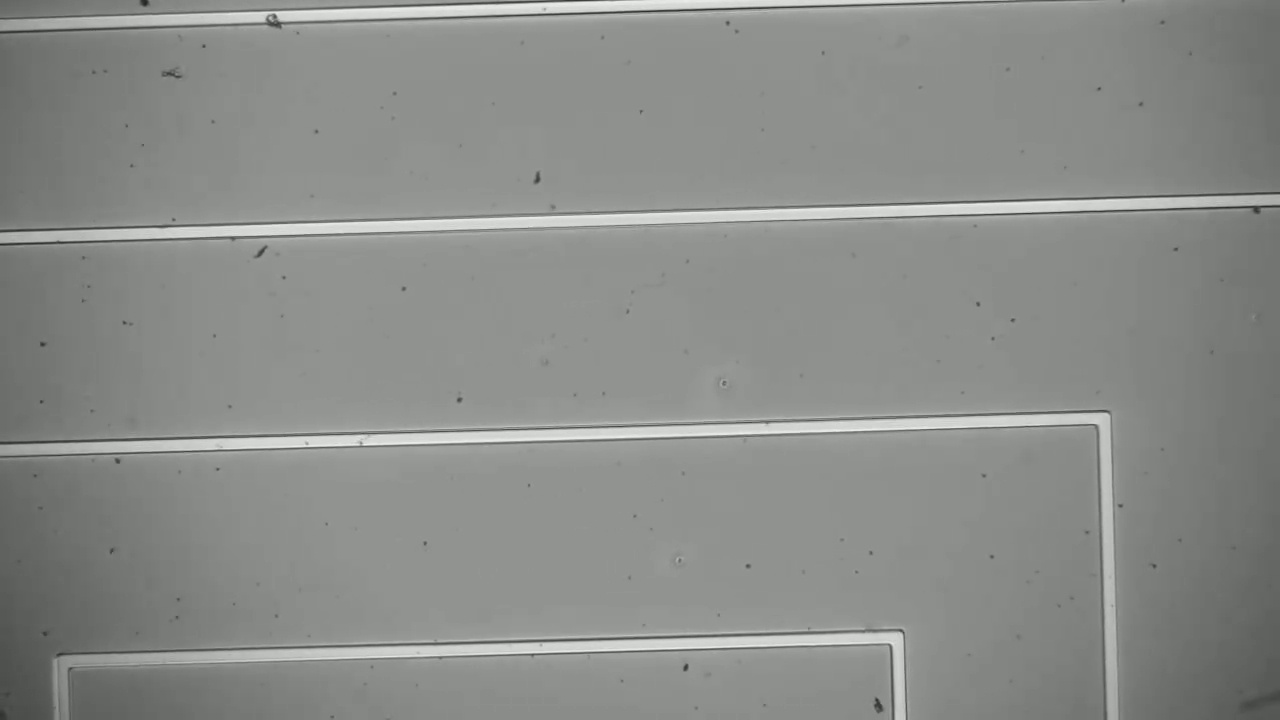stains_enbedded: (257, 6, 290, 38)
